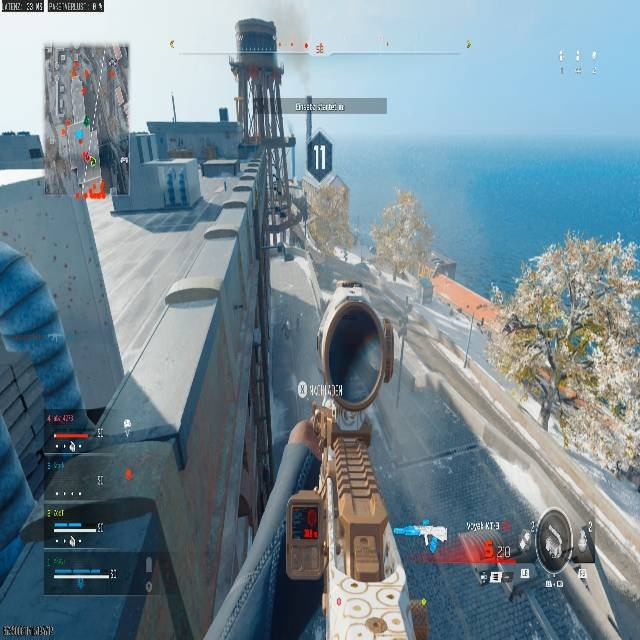head: (321, 300, 393, 403), (307, 131, 333, 173)
player: (275, 298, 417, 640)
